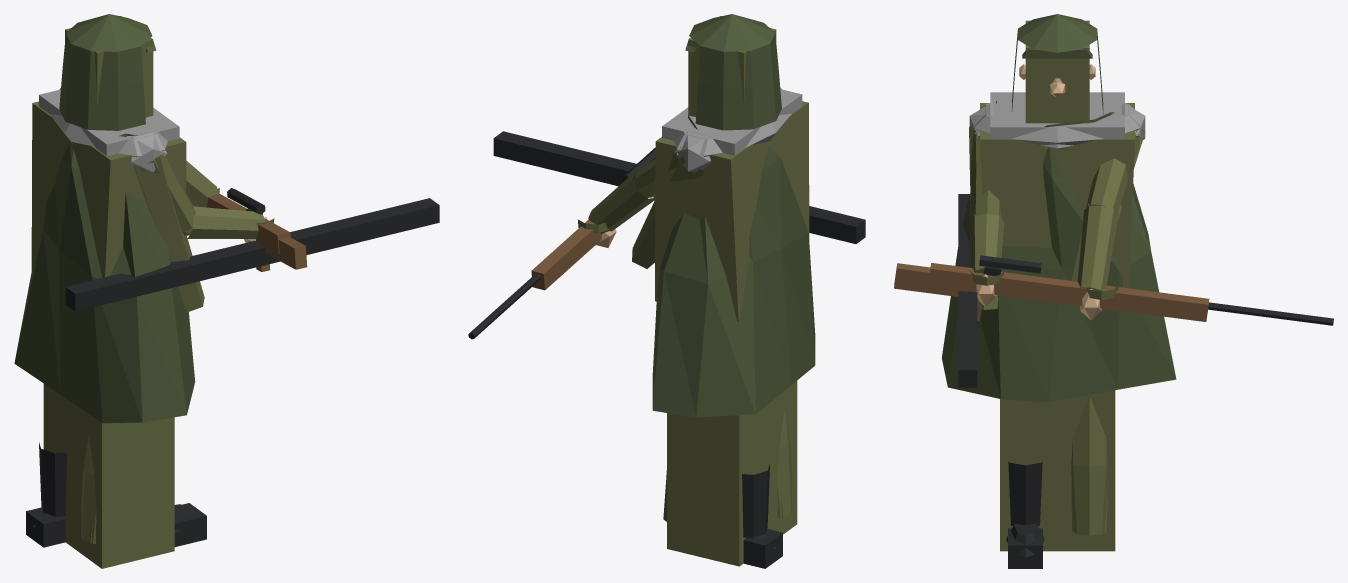
File: meridian_sniper.glb
The picture shows the model from 3 angles, left to right: view 1: azimuth 30°, elevation 25°; view 2: azimuth 150°, elevation 25°; view 3: azimuth 270°, elevation 25°; orthographic projection.
Parts seen in each view (by area): view 1: torso (×2), arm_r (×3), leg_l (×3), head (×2), leg_r (×2), arm_l; view 2: torso (×2), leg_l (×3), head (×2), arm_r (×3), arm_l (×2), leg_r; view 3: torso (×2), arm_r (×3), leg_l (×2), head (×2), arm_l, leg_r (×2).
Boxes of the visible parts, x1,y1,x2,y2 form: torso (×2): (14, 88, 195, 423); arm_r (×3): (65, 132, 439, 312); leg_l (×3): (26, 383, 174, 568); head (×2): (59, 14, 156, 130); leg_r (×2): (80, 435, 206, 546); arm_l: (186, 160, 219, 207); torso (×2): (652, 88, 815, 417); leg_l (×3): (663, 381, 797, 568); head (×2): (685, 14, 781, 130); arm_r (×3): (468, 131, 865, 339); arm_l (×2): (578, 131, 710, 268); leg_r: (777, 410, 792, 518); torso (×2): (942, 92, 1176, 402); arm_r (×3): (894, 103, 1333, 387); leg_l (×2): (1000, 390, 1115, 551); head (×2): (1012, 14, 1103, 123); arm_l: (1077, 103, 1145, 319); leg_r (×2): (1006, 461, 1044, 568).
Bounding box in the file's own units: 1.3 × 1.79 × 1.37.
